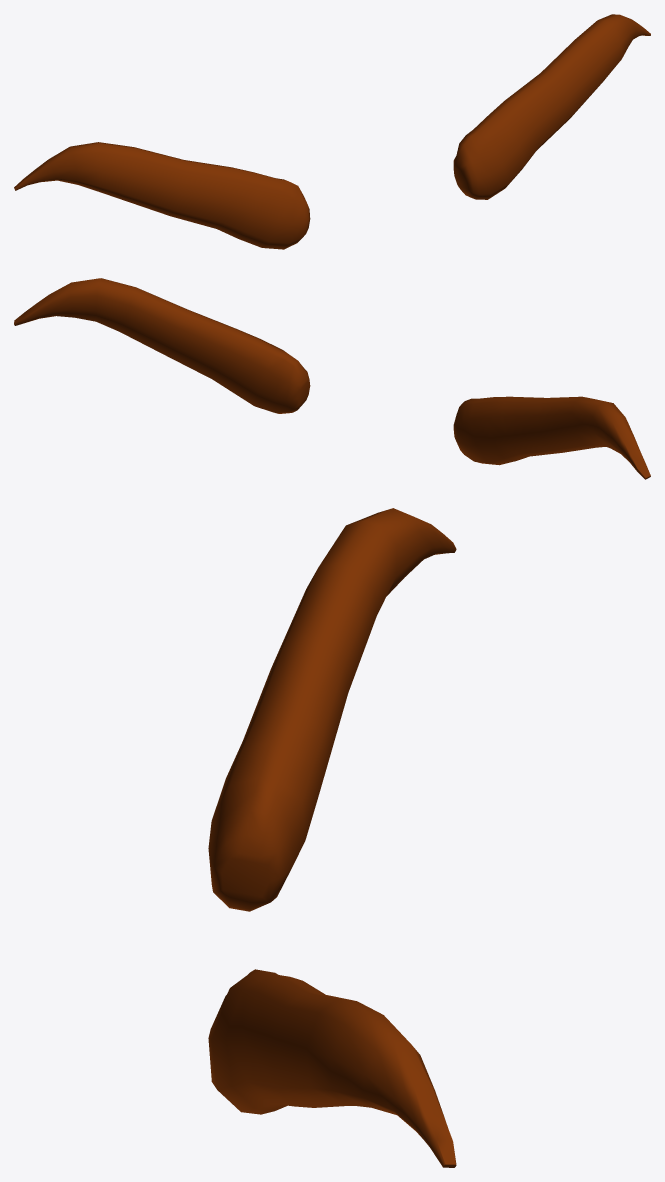
File: Eyebrows_02_02.fbx
3 renders of one model, top to bottom at view 1: azimuth 30°, elevation 25°; view 2: azimuth 150°, elevation 25°; view 3: azimuth 270°, elevation 25°, orthographic. The views are drawn at different scales.
Visible parts, largest first — view 1: Eyebrows_02_02; view 2: Eyebrows_02_02; view 3: Eyebrows_02_02.
Part boxes in pixels (x1,y1,x2,y2): Eyebrows_02_02: (14,14,650,249); Eyebrows_02_02: (14,278,650,479); Eyebrows_02_02: (208,508,456,1167).
Size of the model in its own units: 18.03 by 3.24 by 3.04.
